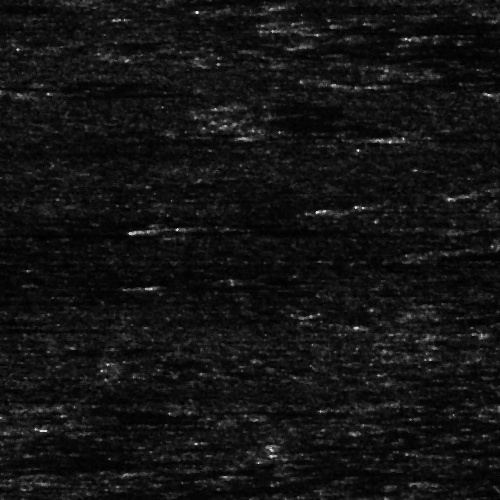object: (243, 19, 368, 34), (74, 224, 189, 237), (346, 129, 439, 144), (231, 0, 336, 8), (0, 87, 65, 98), (383, 32, 456, 39), (0, 423, 65, 430), (116, 283, 169, 288), (420, 248, 461, 253), (0, 411, 11, 418)
shadow: (132, 224, 356, 237), (306, 19, 500, 34), (393, 129, 500, 144), (23, 87, 165, 98), (284, 0, 437, 8), (23, 423, 177, 430), (143, 283, 300, 288), (420, 32, 500, 39), (0, 315, 41, 324), (0, 411, 50, 418), (440, 248, 500, 253), (355, 207, 500, 208)
